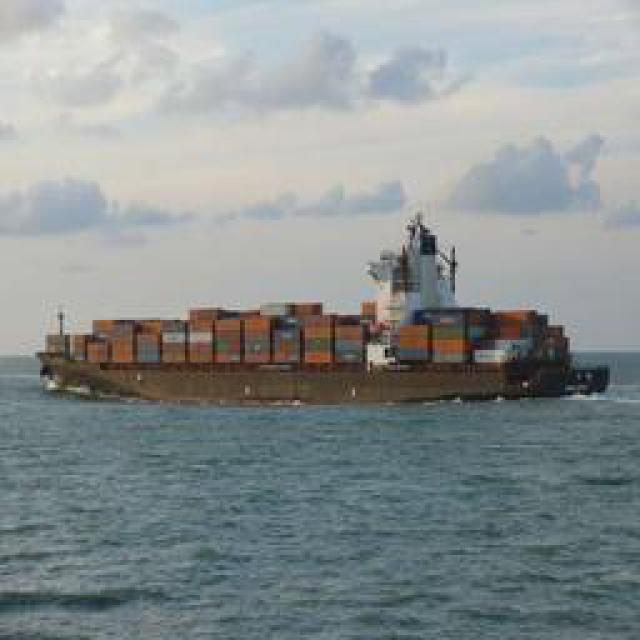Ship: (27, 296, 600, 401)
